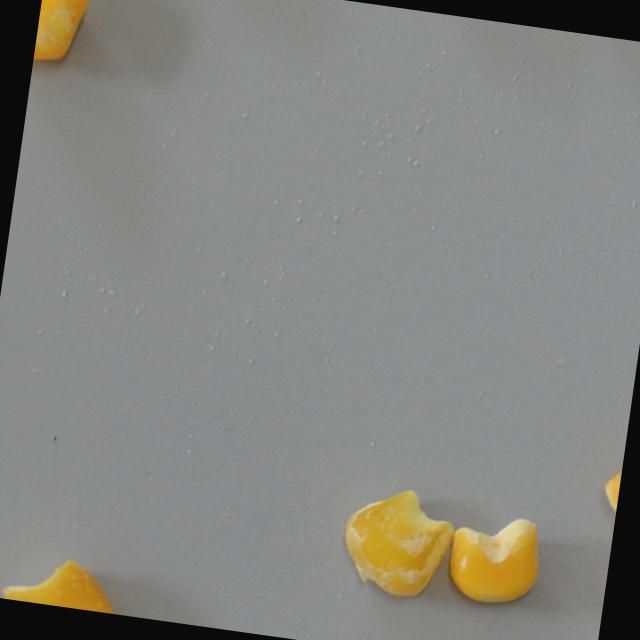pelicula: (334, 481, 459, 603), (444, 506, 548, 612), (1, 549, 122, 614), (33, 0, 90, 67), (594, 439, 626, 552)
